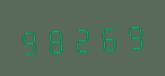eight: (44, 22, 69, 56)
nine: (18, 23, 43, 58), (122, 17, 147, 52)
six: (96, 19, 121, 53)
two: (70, 20, 95, 55)
